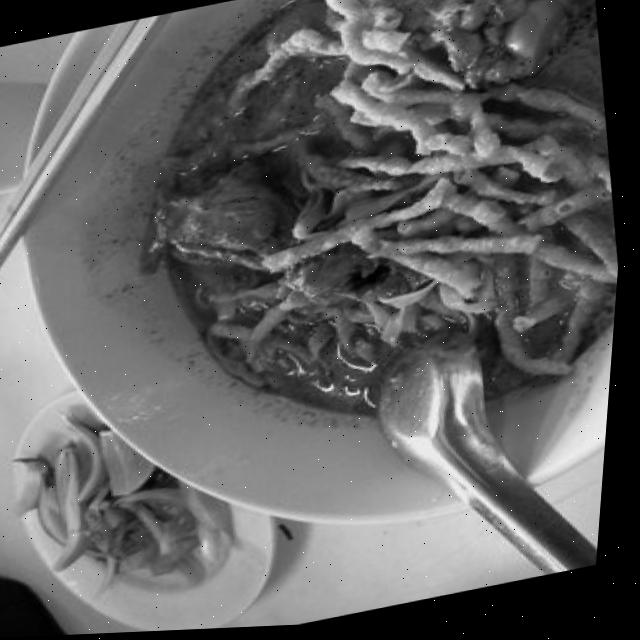面条主食: (94, 0, 640, 432)
